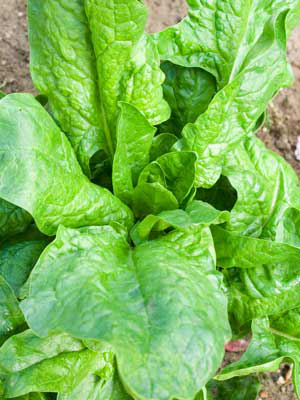Bayam: (24, 84, 258, 342)
